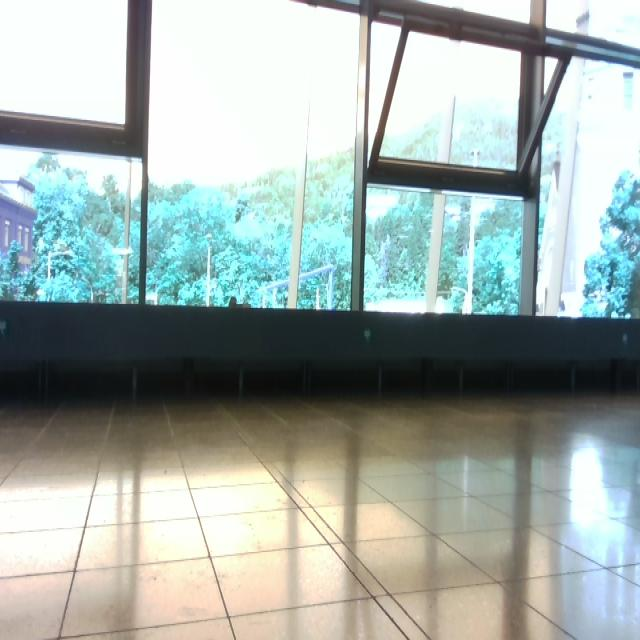light bulb: (569, 442, 607, 529), (462, 292, 473, 314)
pillar: (425, 96, 456, 313)
tiled floor: (1, 391, 639, 639)
window: (1, 1, 640, 322)
